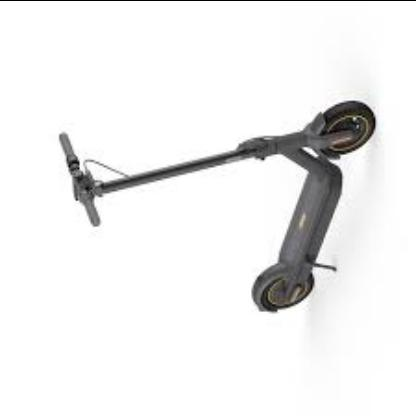bike: (57, 100, 379, 314)
